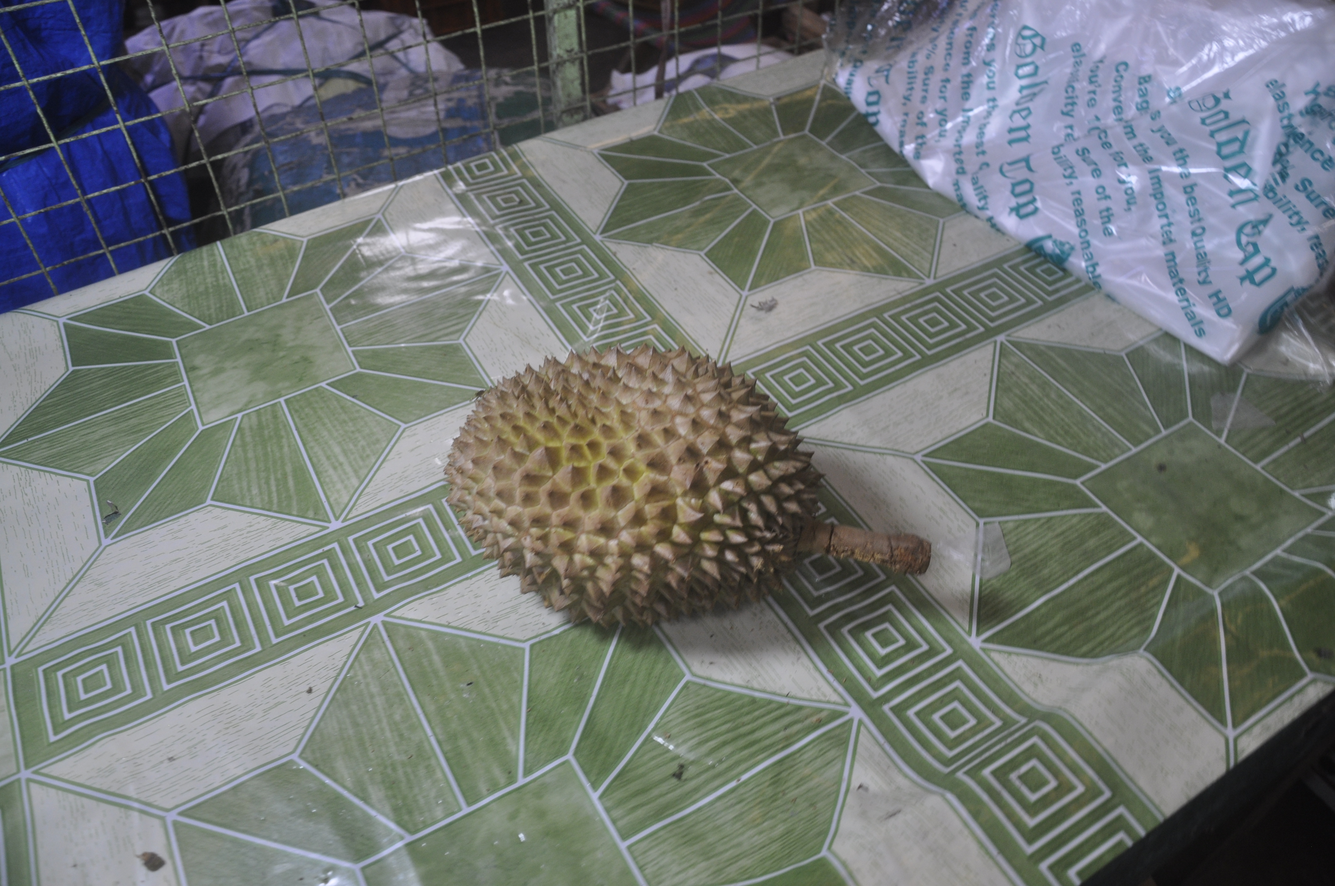mature: (445, 345, 823, 626)
